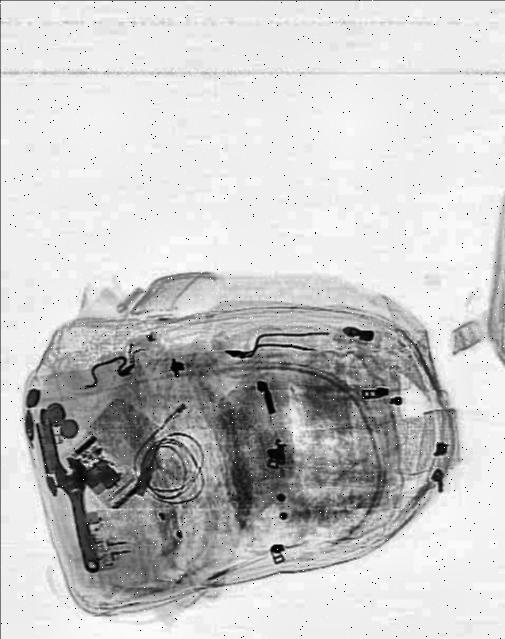Wrench: (48, 450, 108, 576)
